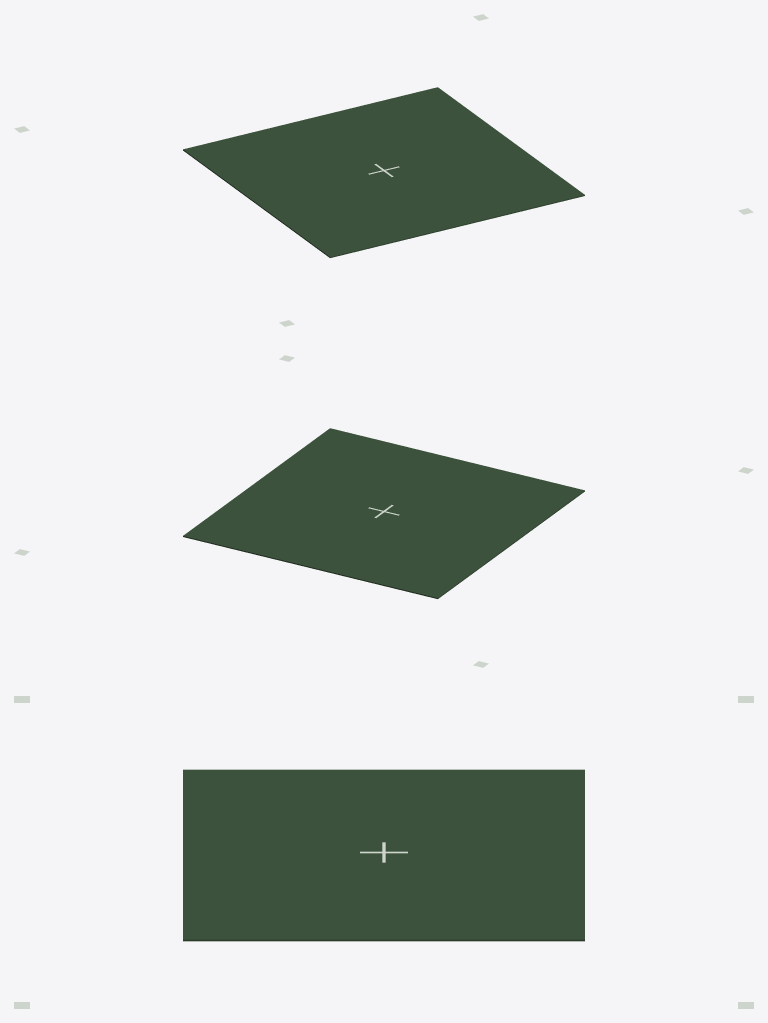
Rendered from empty_cell.glb.
3 views of the same model, one above another, from view 1: azimuth 30°, elevation 25°; view 2: azimuth 150°, elevation 25°; view 3: azimuth 270°, elevation 25° (orthographic). The views are drawn at different scales.
Visible parts, largest first — view 1: Cell_Base; view 2: Cell_Base; view 3: Cell_Base.
Boxes of the visible parts, <box> form: Cell_Base: <box>183,87,584,257</box>; Cell_Base: <box>183,428,584,598</box>; Cell_Base: <box>183,769,584,941</box>.
Size of the model in its own units: 0.92 by 0.0051 by 0.92.
